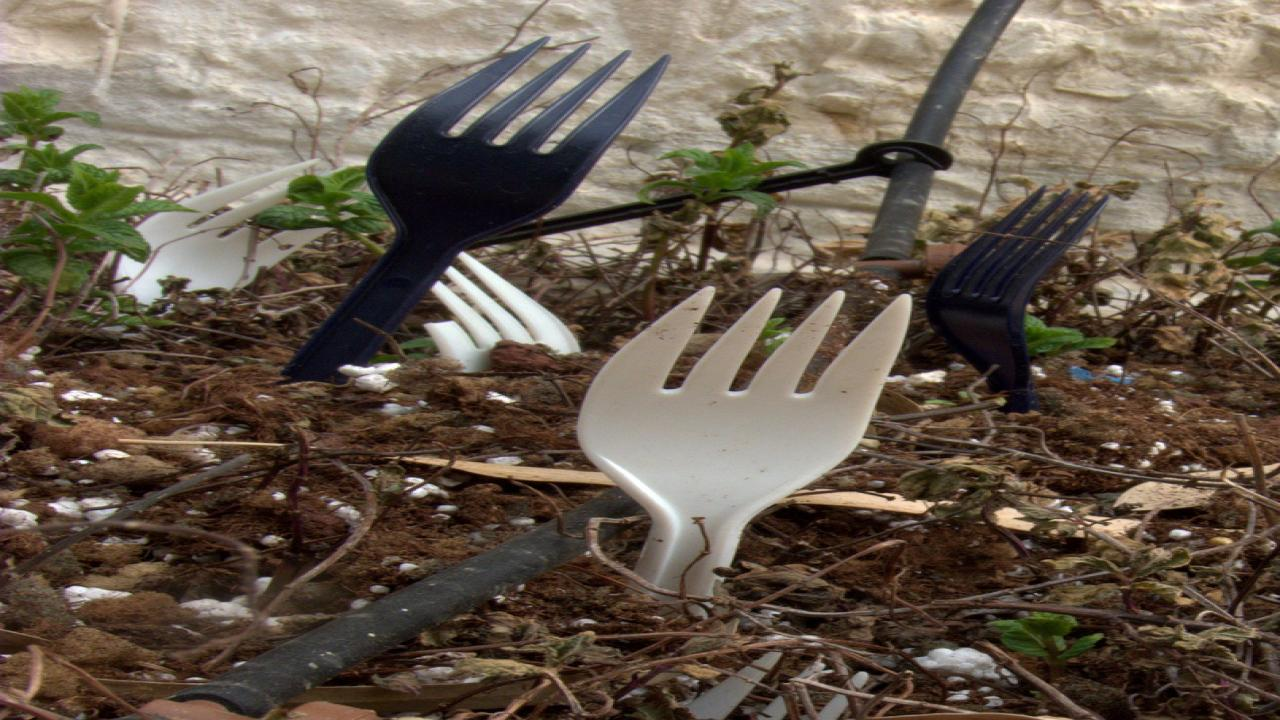fork: (288, 34, 676, 372), (580, 285, 918, 613), (928, 188, 1116, 410)
